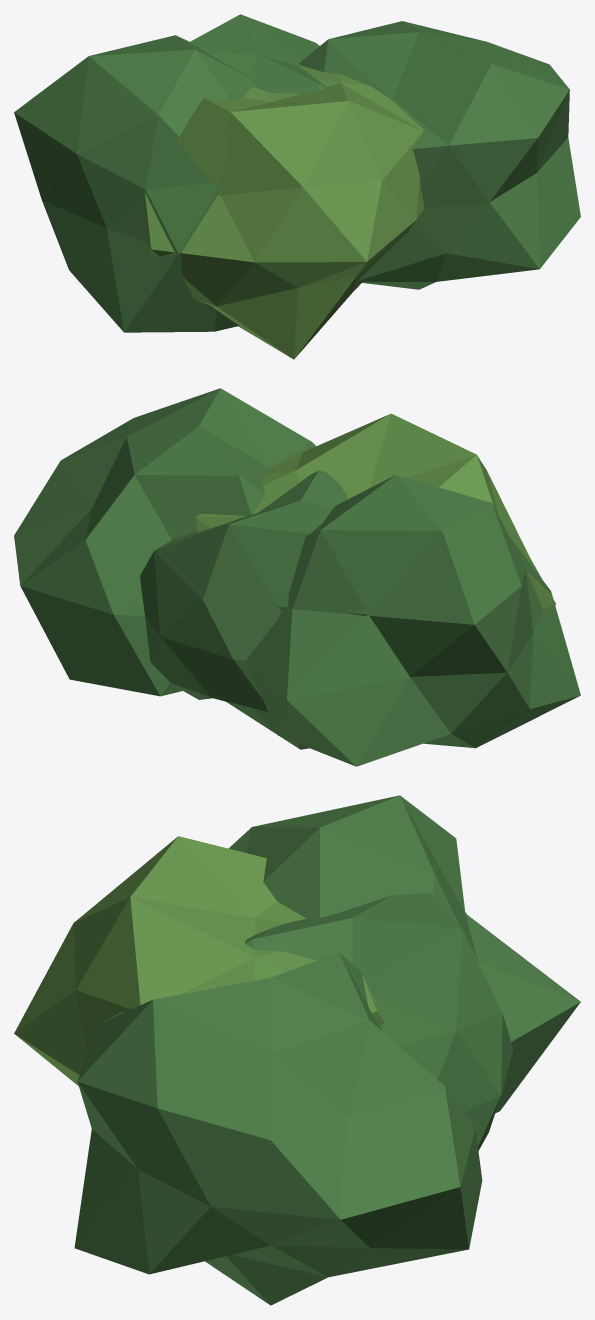
The model's file is Bush_2.fbx.
3 views of the same model, one above another, from view 1: azimuth 30°, elevation 25°; view 2: azimuth 150°, elevation 25°; view 3: azimuth 270°, elevation 25° (orthographic). The views are drawn at different scales.
Parts seen in each view (by area): view 1: Bush_2; view 2: Bush_2; view 3: Bush_2.
Part boxes in pixels (x1,y1,x2,y2): Bush_2: (14, 14, 580, 359); Bush_2: (14, 388, 580, 766); Bush_2: (14, 795, 580, 1305).
Bounding box in the file's own units: 2.55 × 2.04 × 1.4.
